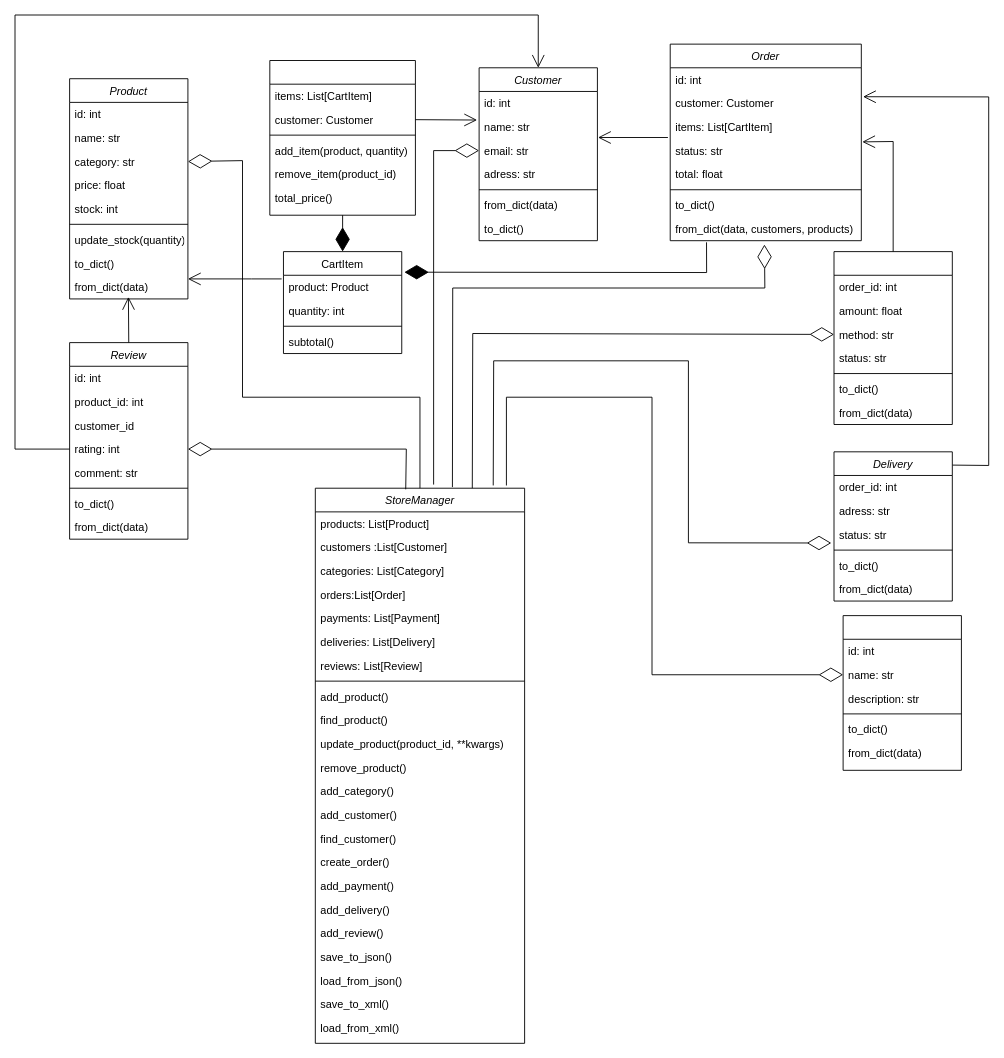
This 1004x1058 diagram has some shape labels left out. The shapes that lost their labels are listed below. From the top down, each one's box as (x1, y1, x2, y2) in pixels, then its label:
(269, 60, 415, 215): ShoppingCart
(833, 251, 952, 425): Payment
(842, 615, 961, 770): Category
